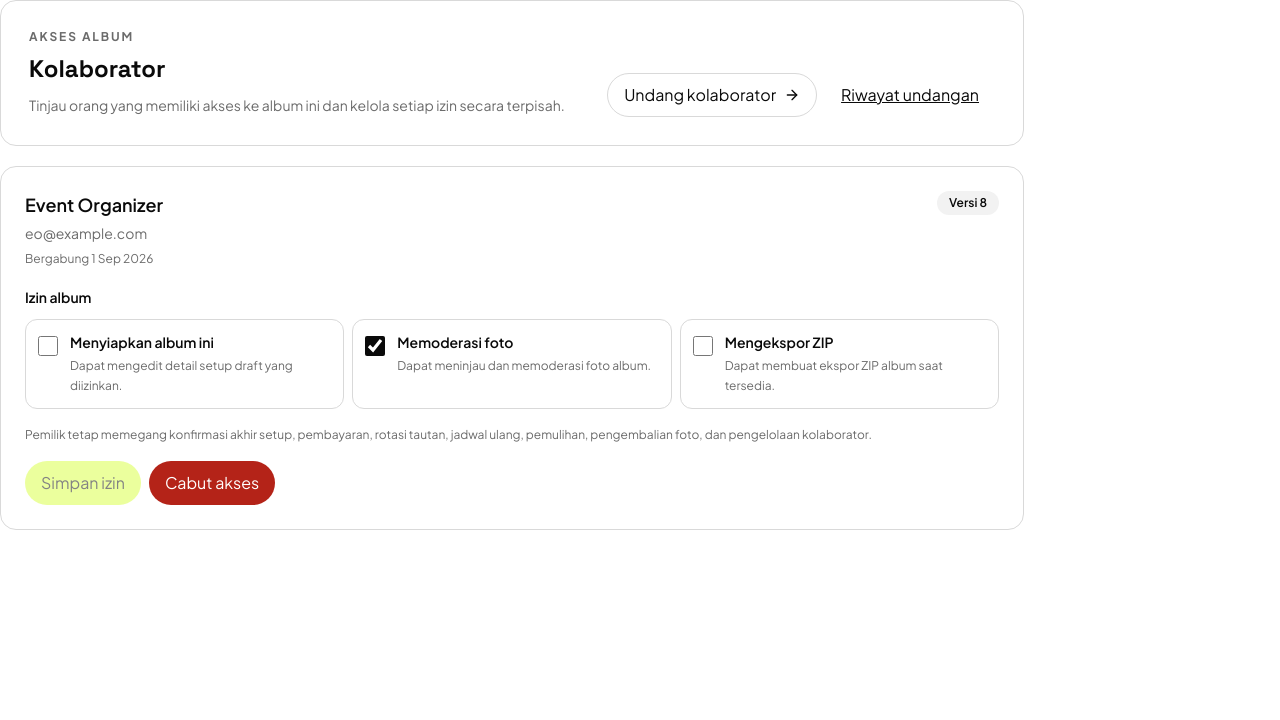
Test case: FE-7 collaborator management › requires confirmation before H45 membership deletion and uses the server result after success
Click the button "Cabut akses": (212, 483) [149,461,275,505]
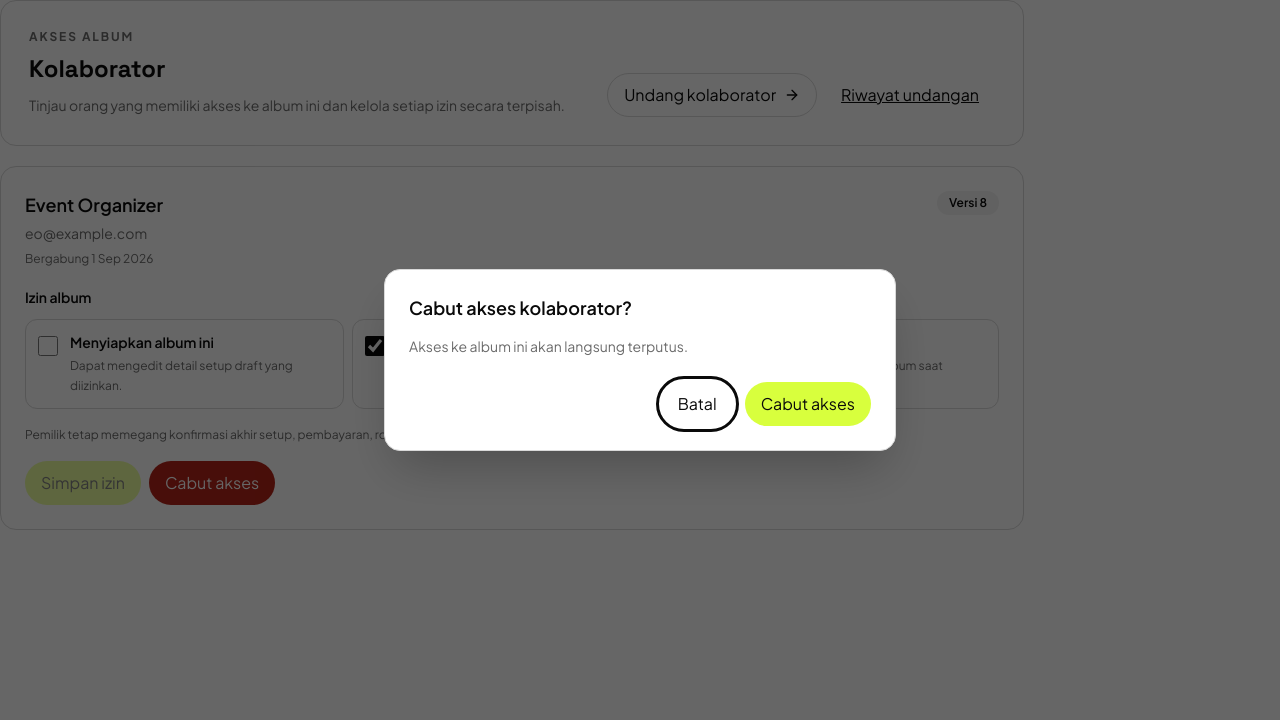
Click the button "Cabut akses": (808, 404) [745,382,871,426]
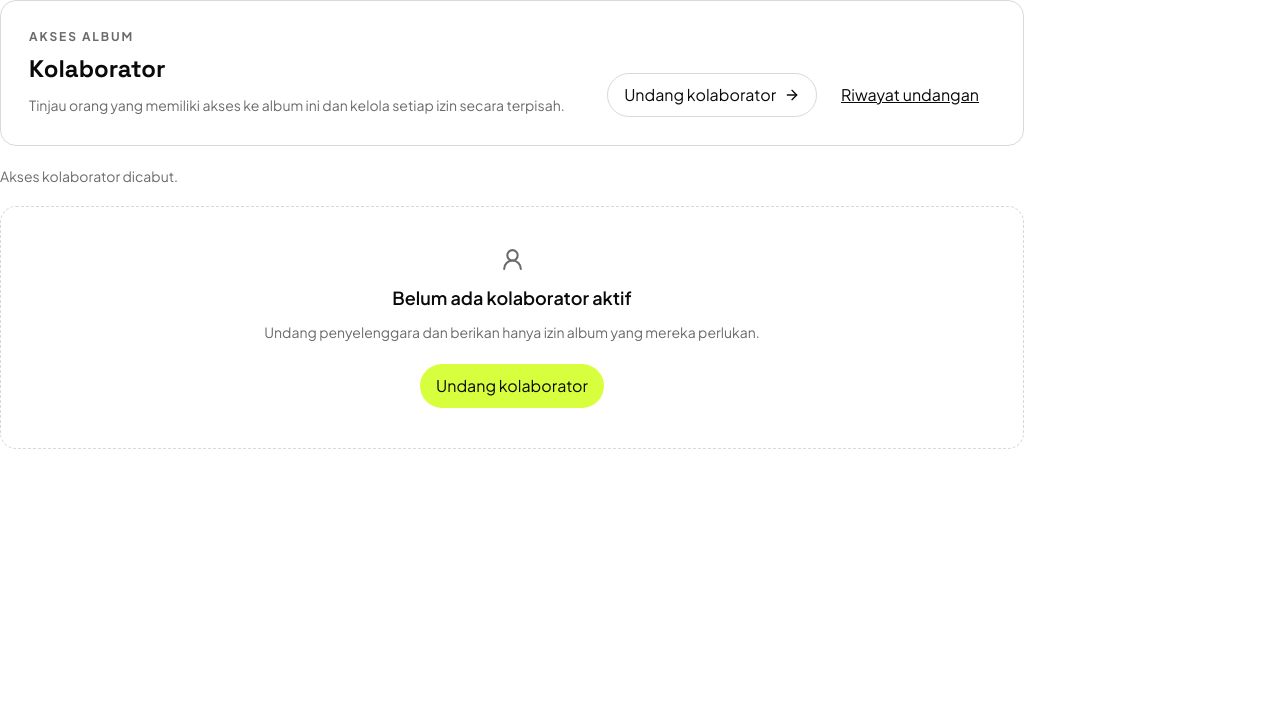
Expected: the text "Akses kolaborator dicabut." is shown, [0,167,178,185]
Expected: the text "Event Organizer" is gone
